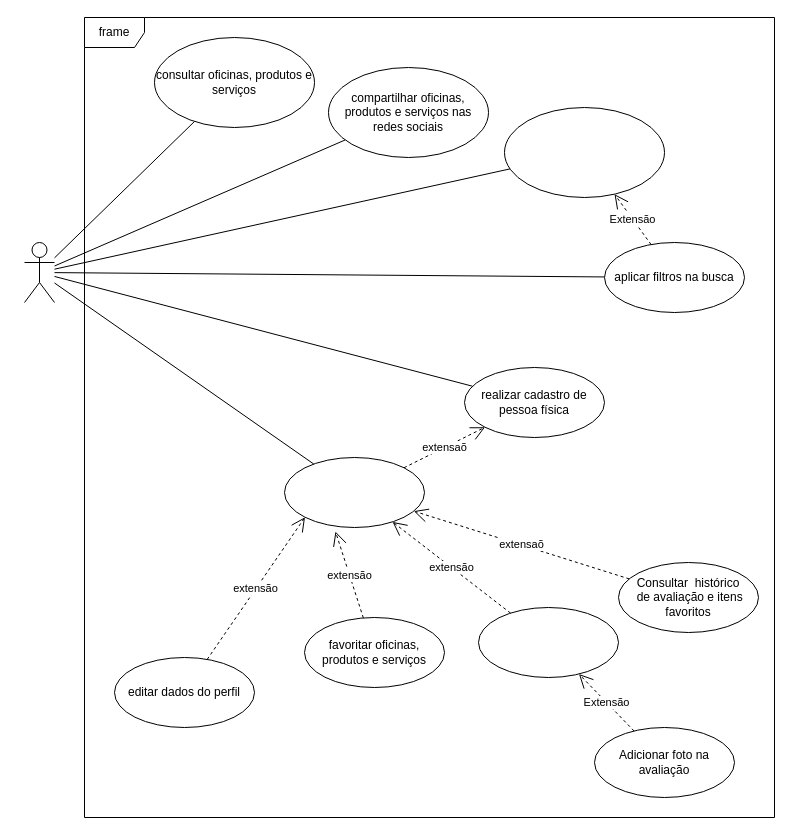
Some shapes in this 792 by 835 pixel diagram are drawn without their labels. The shapes that lost their labels are listed below. From the top down, each one's centre as x and y in pixels, then its label:
At (x=584, y=152): "buscar oficinas, produtos e serviços".
At (x=39, y=272): "visitante".
At (x=354, y=492): "Realizar login".
At (x=548, y=642): "Avaliar produto/serviço".
